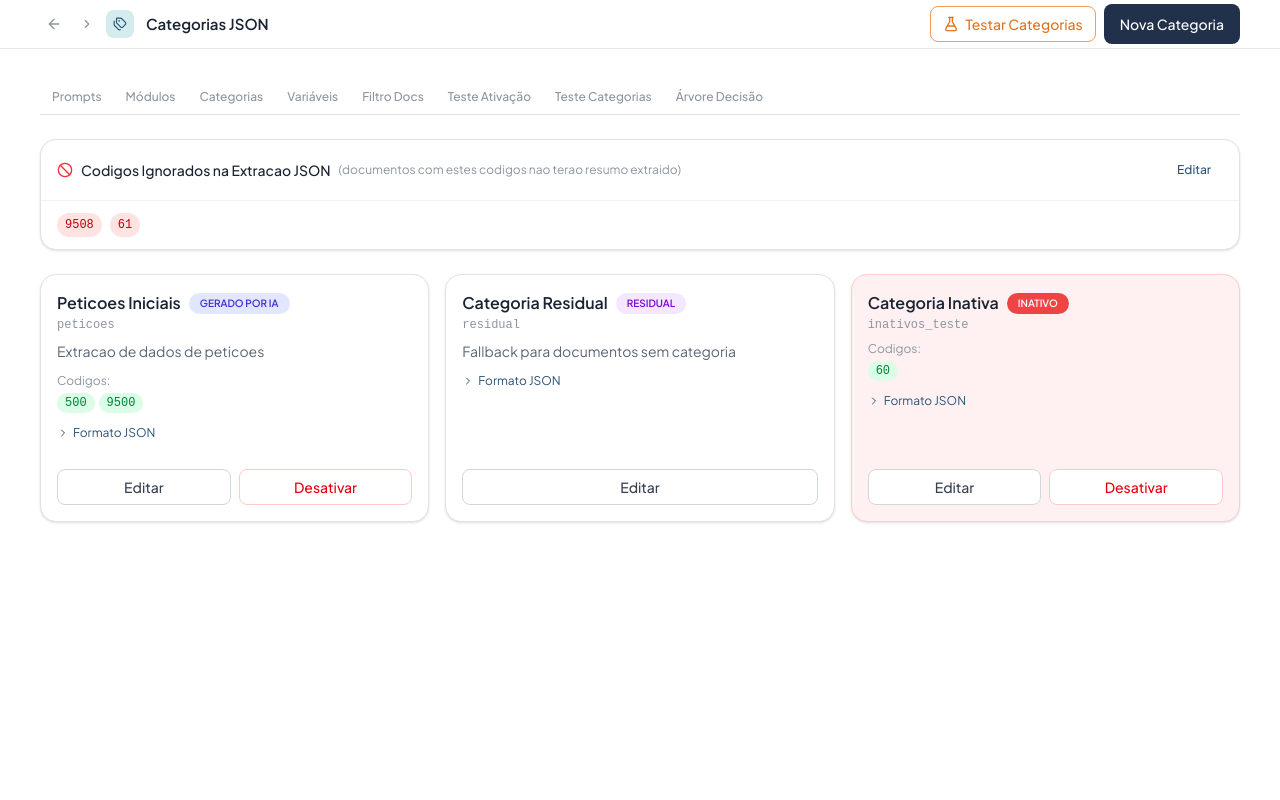
it: CategoriasJsonPage › deve abrir editor para criar (campos vazios, sem motivo)
Expected: the heading "Peticoes Iniciais" is shown, left=57, top=291, right=181, bottom=315
Clicar em Nova Categoria
Click the button with test id "btn-nova-categoria" at {"x": 1172, "y": 24}, box left=1104, top=4, right=1240, bottom=44
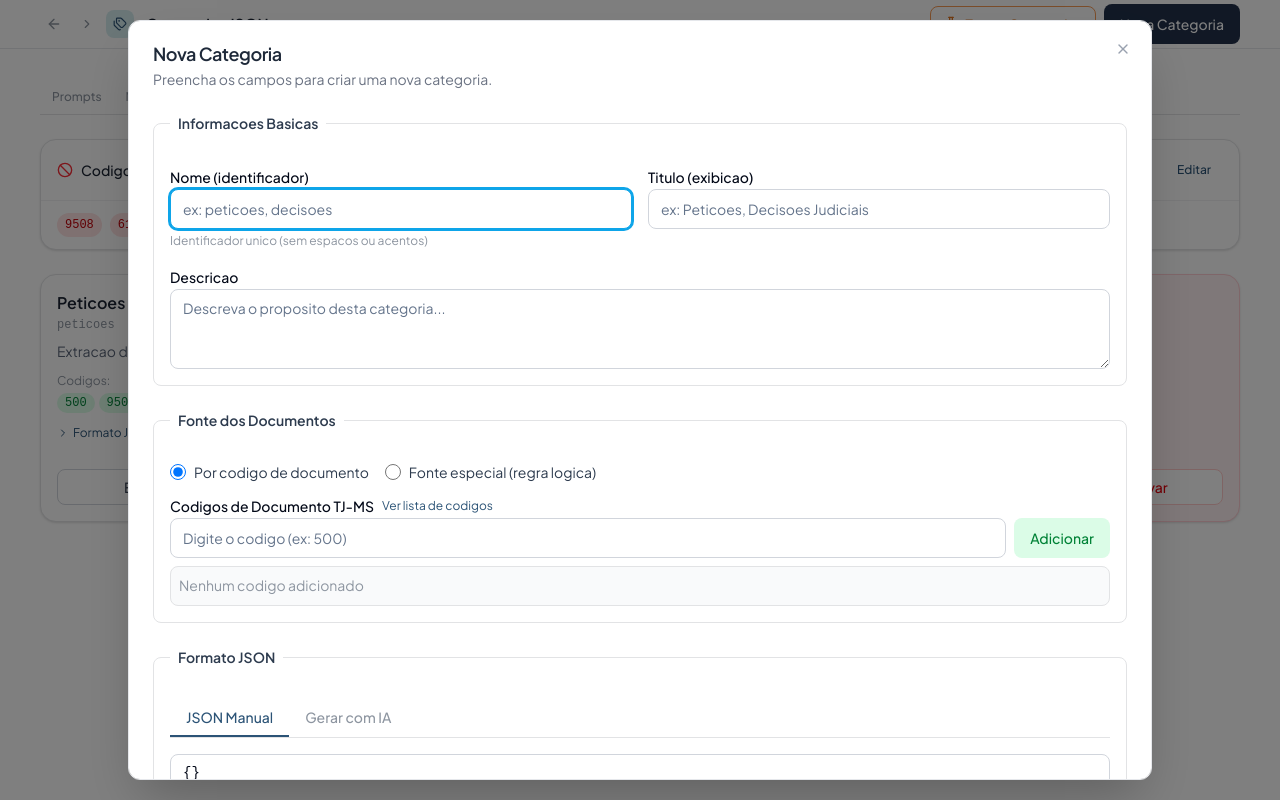
Expected: the dialog with test id "editor-dialog" is shown
